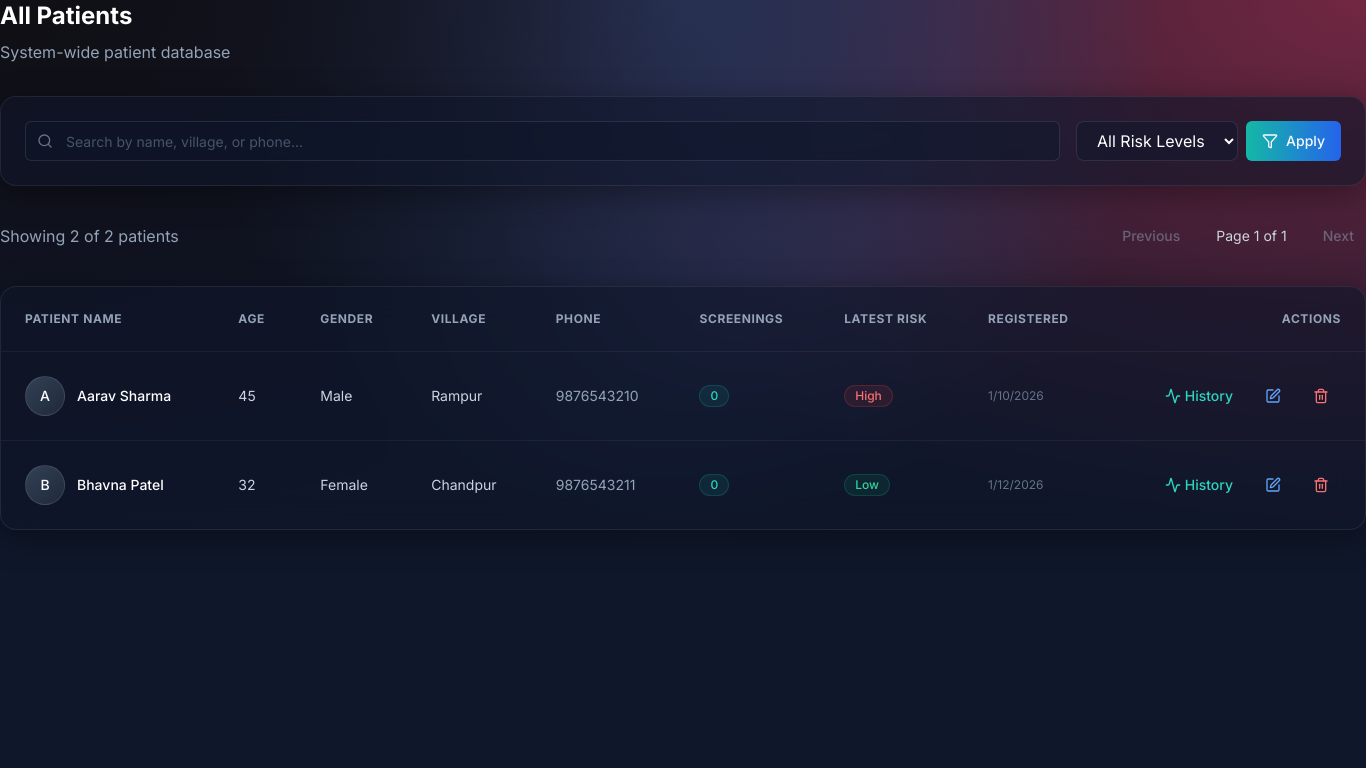
Test: AllPatientsPage › opens edit modal when edit button is clicked
Expected: the text "Aarav Sharma" is shown, top-left (77, 387), bottom-right (171, 404)
Click the 5th button at (1273, 396), box top-left (1253, 378), bottom-right (1293, 414)
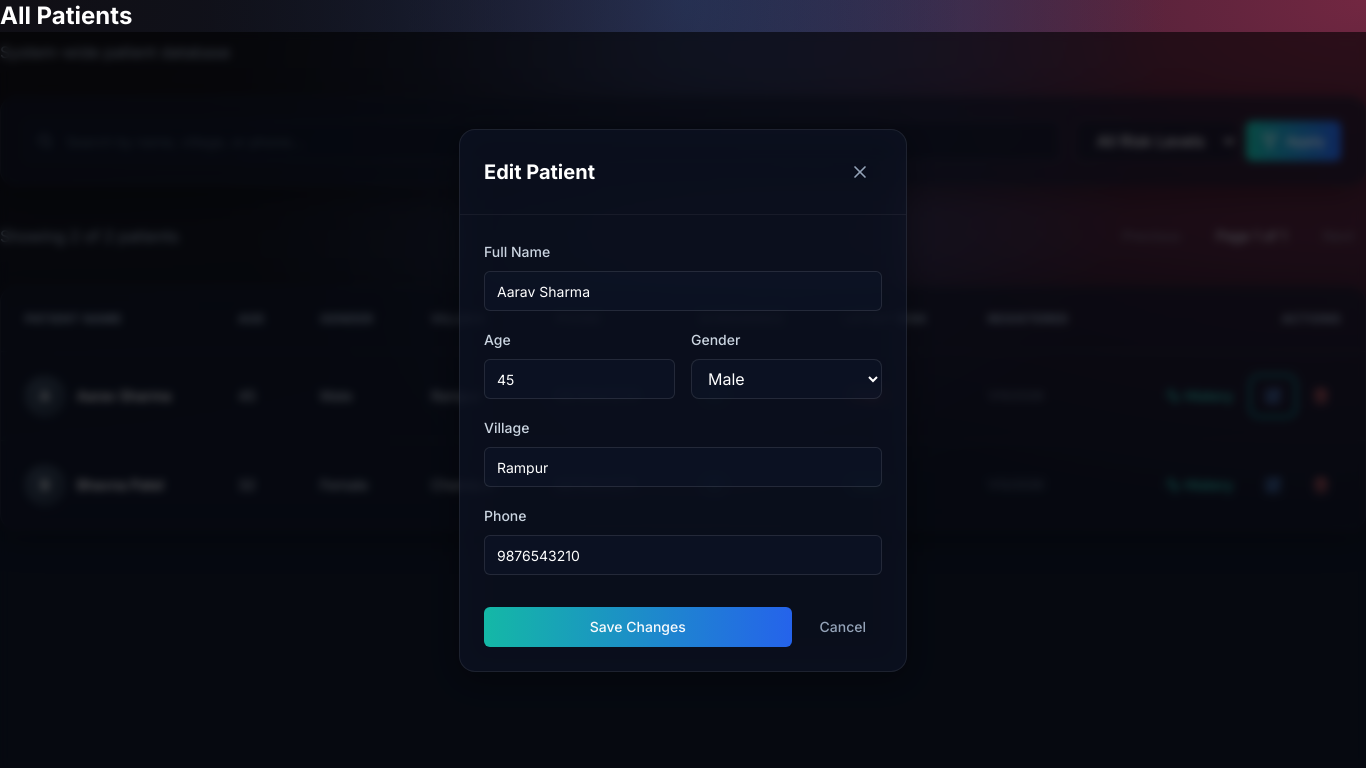
Result: the heading "Edit Patient" is shown at top-left (484, 158), bottom-right (595, 186)
